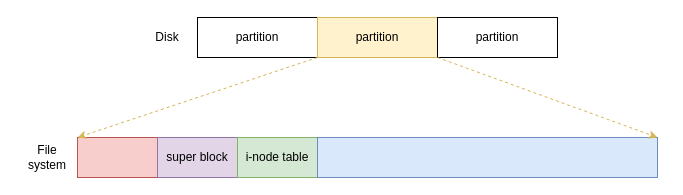
Image size: 683x195. Some labels were removed from this diagram. Each missing label, with the centre of its shape:
boot block: (x=117, y=157)
data block: (x=487, y=157)
